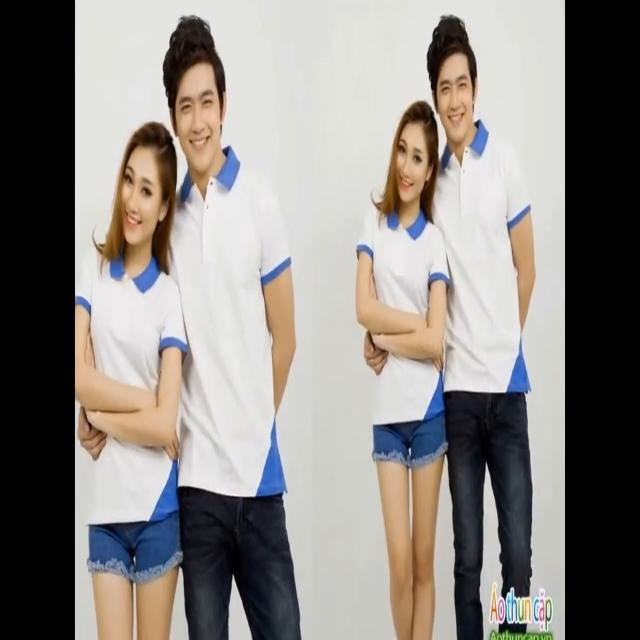Shirt: (167, 143, 291, 499), (75, 242, 189, 524), (432, 119, 532, 395), (356, 198, 450, 428)
